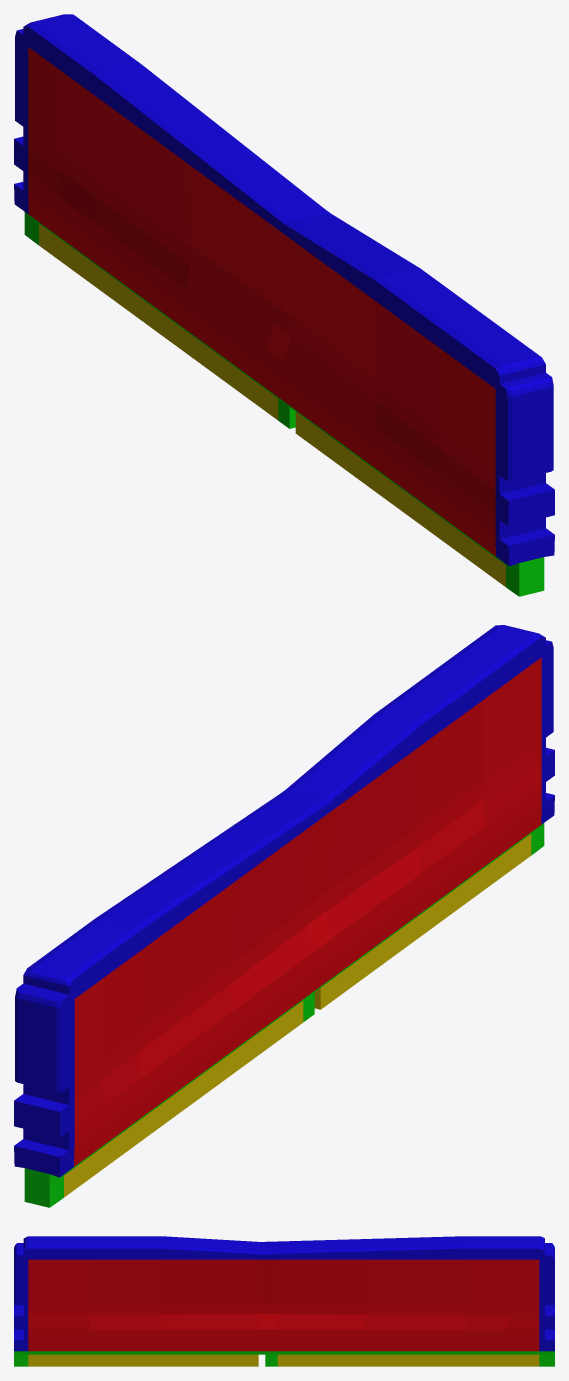
The model's file is RamStick.fbx.
3 views of the same model, one above another, from view 1: azimuth 30°, elevation 25°; view 2: azimuth 150°, elevation 25°; view 3: azimuth 270°, elevation 25° (orthographic). The views are drawn at different scales.
Parts seen in each view (by area): view 1: RamStick; view 2: RamStick; view 3: RamStick.
Boxes of the visible parts, x1,y1,x2,y2 form: RamStick: (14,14,554,596); RamStick: (14,625,554,1207); RamStick: (14,1236,554,1366).
Bounding box in the file's own units: 0.72 × 3.32 × 13.33.
